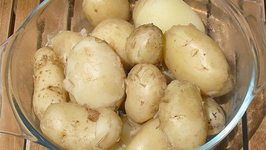boiled potatoes: (66, 33, 129, 111), (161, 26, 230, 97), (38, 98, 124, 150), (160, 77, 210, 150), (132, 1, 211, 36), (27, 47, 65, 115), (125, 62, 163, 124), (128, 21, 165, 64)
